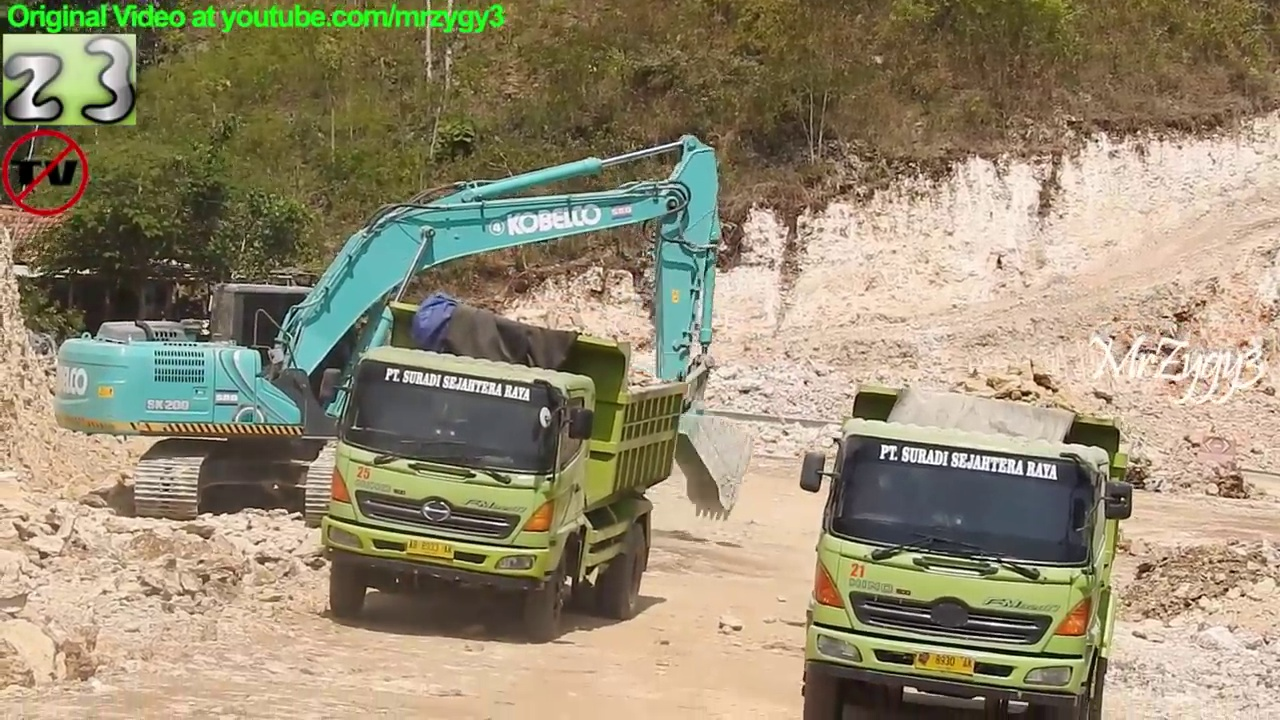excavator: (50, 128, 757, 530)
truck: (315, 292, 692, 648), (796, 382, 1138, 720)
